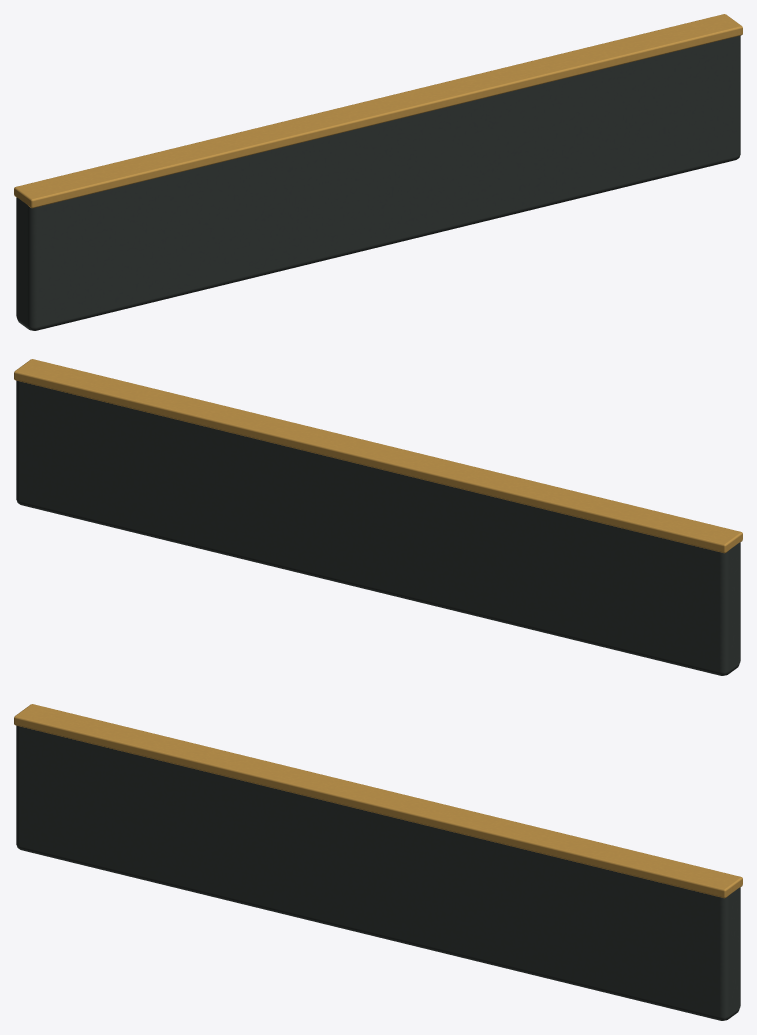
Rendered from sign-panel.glb.
3 views of the same model, one above another, from view 1: azimuth 30°, elevation 25°; view 2: azimuth 150°, elevation 25°; view 3: azimuth 330°, elevation 25° (orthographic).
Parts seen in each view (by area): view 1: panel, panel_edge; view 2: panel, panel_edge; view 3: panel, panel_edge.
Part boxes in pixels (x1,y1,x2,y2): panel: (16, 35, 740, 330); panel_edge: (14, 14, 742, 208); panel: (16, 380, 740, 675); panel_edge: (14, 359, 742, 553); panel: (16, 725, 740, 1020); panel_edge: (14, 704, 742, 898).
Size of the model in its own units: 2.8 by 0.5075 by 0.125.
2 materials, 2 textured.
